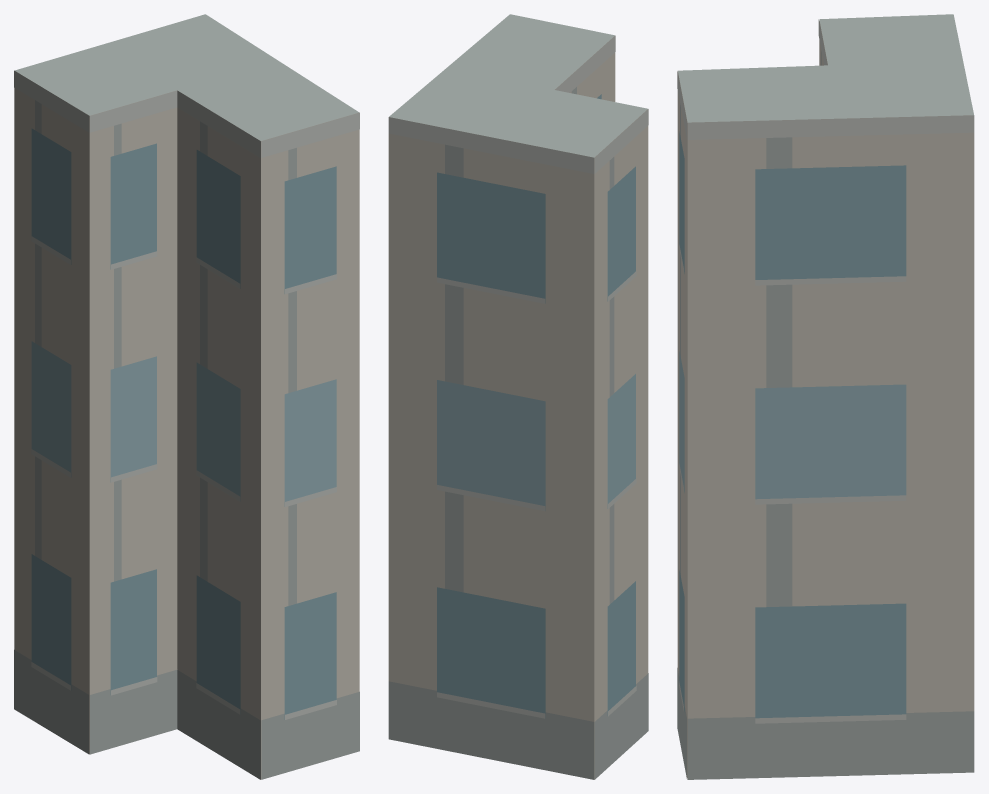
File: survey-upis-32633668.glb
3 views of the same model, side by side, from view 1: azimuth 30°, elevation 25°; view 2: azimuth 150°, elevation 25°; view 3: azimuth 270°, elevation 25° (orthographic). The views are drawn at different scales.
Parts seen in each view (by area): view 1: survey-upis-32633668.tmp; view 2: survey-upis-32633668.tmp; view 3: survey-upis-32633668.tmp.
Boxes of the visible parts, box(x1,y1,x2,y2) form: survey-upis-32633668.tmp: box(14, 14, 359, 779); survey-upis-32633668.tmp: box(388, 14, 648, 779); survey-upis-32633668.tmp: box(677, 14, 974, 779).
Bounding box in the file's own units: 3.25 × 9.15 × 3.75.
